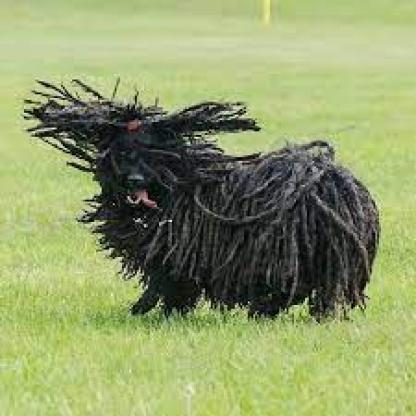puli: (30, 67, 404, 346)
